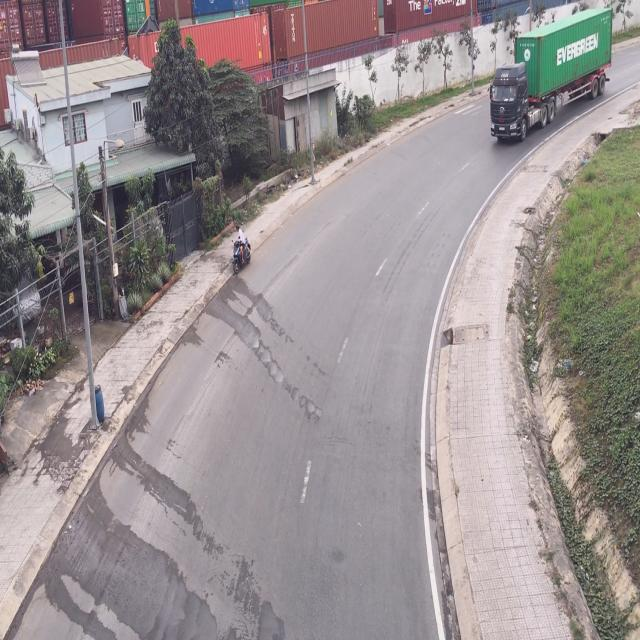motorbike: (232, 226, 252, 276)
truck: (487, 7, 611, 146)
